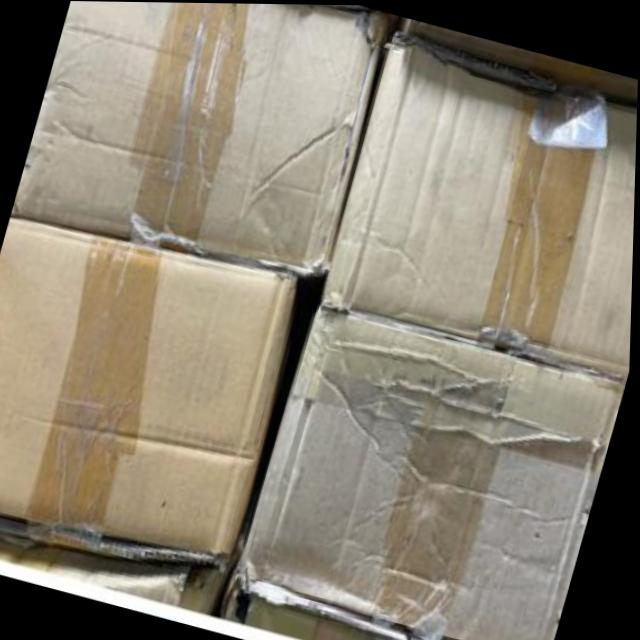box: (230, 304, 626, 640), (0, 220, 310, 586), (323, 31, 639, 370), (14, 0, 385, 278)
